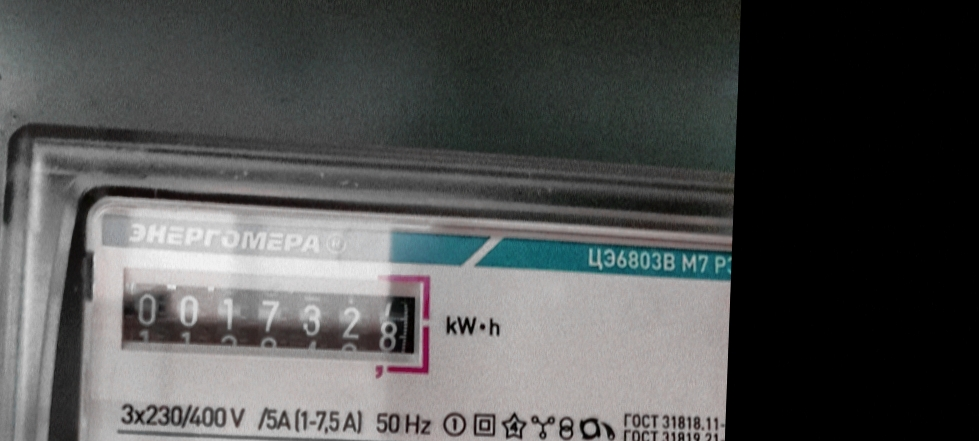0: (137, 290, 160, 328), (179, 294, 200, 328)
1: (221, 295, 238, 332)
2: (340, 305, 362, 342)
3: (300, 302, 324, 338)
7: (258, 297, 283, 335)
8: (378, 318, 399, 354)
screen: (111, 264, 437, 377)
